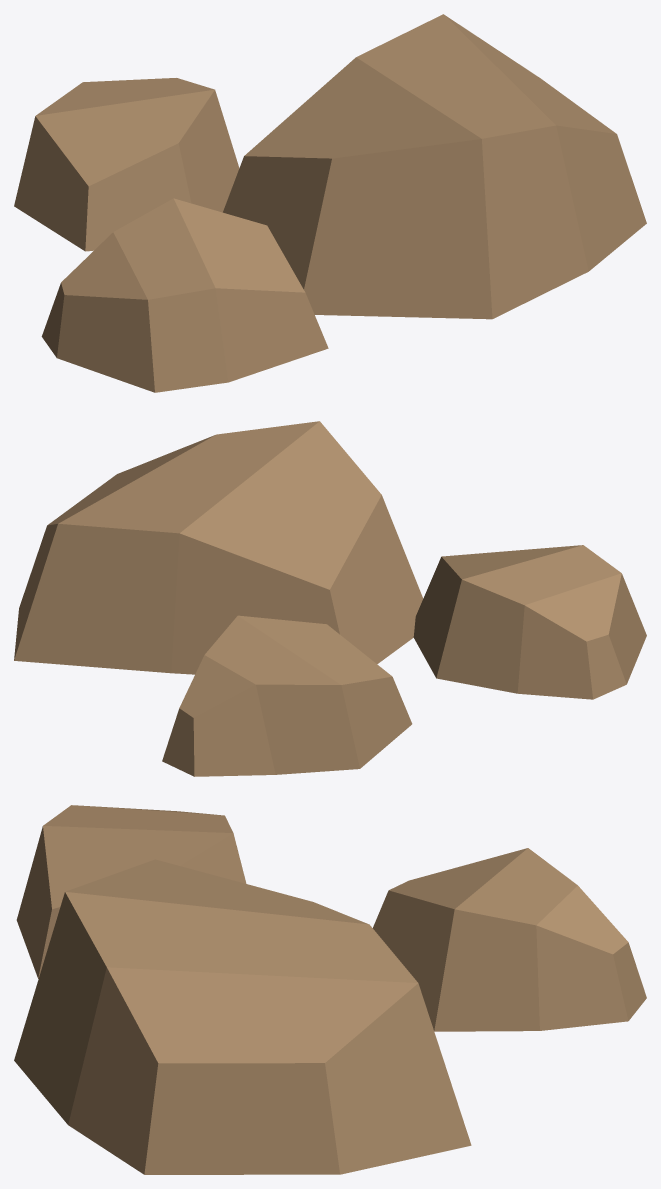
File: RockRawIron.fbx
3 renders of one model, top to bottom at view 1: azimuth 30°, elevation 25°; view 2: azimuth 150°, elevation 25°; view 3: azimuth 270°, elevation 25°, orthographic. The views are drawn at different scales.
Visible parts, largest first — view 1: Rock_3; view 2: Rock_3; view 3: Rock_3.
Boxes of the visible parts, x1,y1,x2,y2 form: Rock_3: (14, 14, 646, 392); Rock_3: (14, 421, 646, 776); Rock_3: (14, 805, 646, 1174).
Size of the model in its own units: 1.53 by 1.32 by 0.4024.
